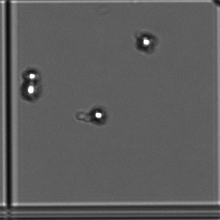Living Cell: (83, 100, 113, 131), (136, 29, 160, 57), (20, 81, 39, 102), (23, 63, 42, 83)
